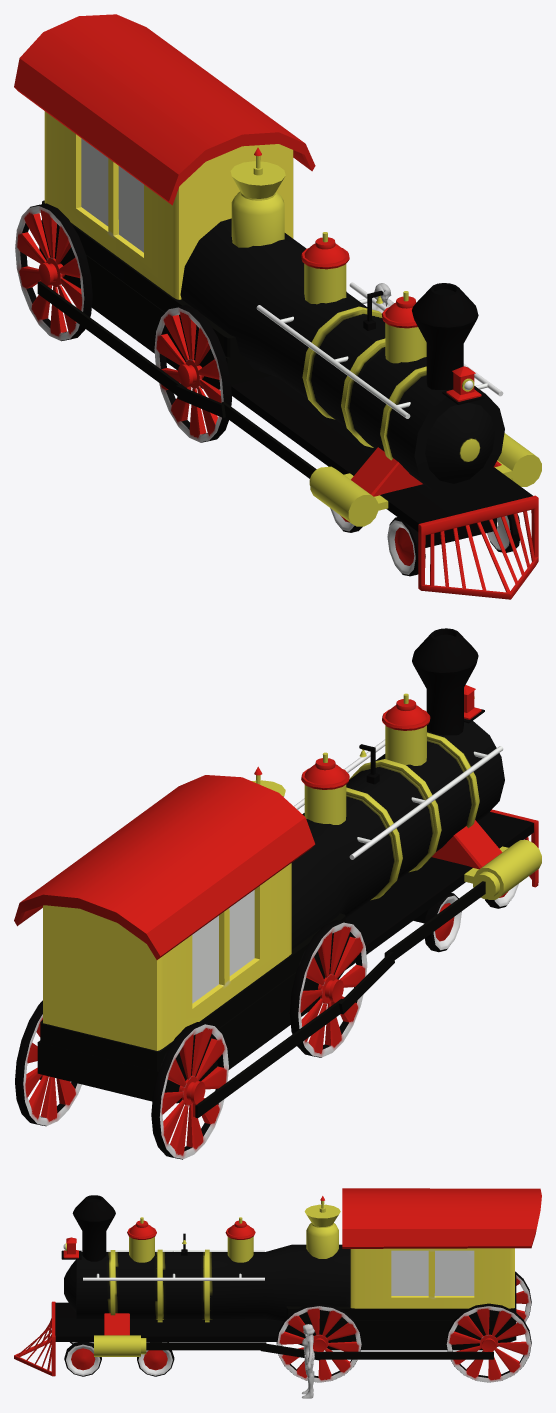
The model's file is Trem.fbx.
3 views of the same model, one above another, from view 1: azimuth 30°, elevation 25°; view 2: azimuth 150°, elevation 25°; view 3: azimuth 270°, elevation 25° (orthographic). The views are drawn at different scales.
Parts seen in each view (by area): view 1: Trem.001; view 2: Trem.001; view 3: Trem.001, Viuva Negra.
Part boxes in pixels (<box>): Trem.001: <box>14,14,541,599</box>; Trem.001: <box>14,628,541,1159</box>; Trem.001: <box>14,1188,541,1382</box>; Viuva Negra: <box>302,1324,314,1398</box>.
Size of the model in its own units: 375 by 406 by 1163.
